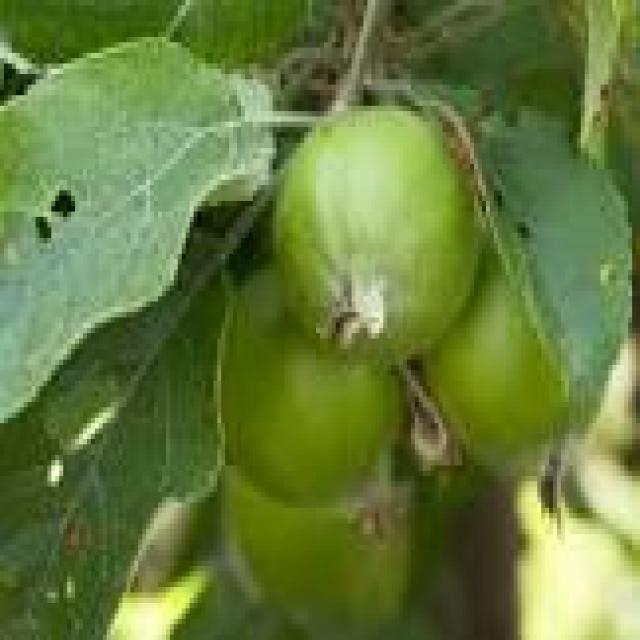apple: (275, 106, 476, 364), (217, 256, 400, 507), (417, 247, 560, 473)
